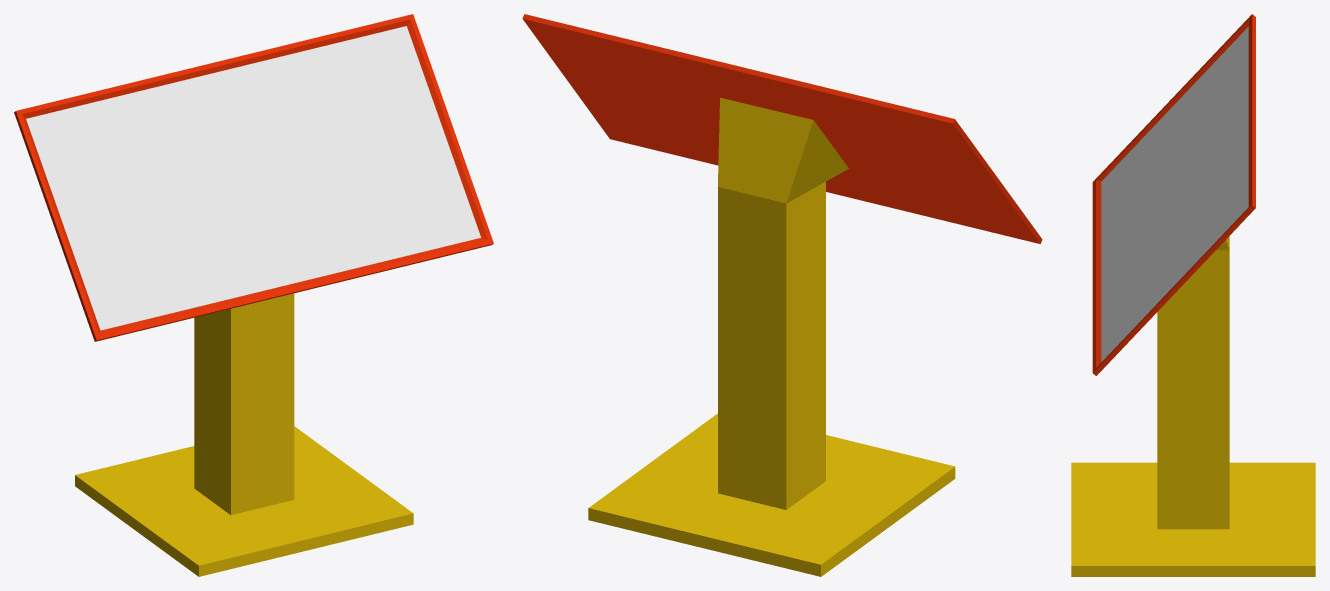
Rendered from Sign(Rectangle).fbx.
3 renders of one model, left to right at view 1: azimuth 30°, elevation 25°; view 2: azimuth 150°, elevation 25°; view 3: azimuth 270°, elevation 25°, orthographic. The views are drawn at different scales.
Visible parts, largest first — view 1: Plate(Rectangle), Base; view 2: Base, Plate(Rectangle); view 3: Base, Plate(Rectangle).
Part boxes in pixels (left/top/right/bottom): Plate(Rectangle): left=14, top=14, right=493, bottom=341; Base: left=75, top=293, right=413, bottom=576; Base: left=588, top=97, right=955, bottom=576; Plate(Rectangle): left=522, top=14, right=1042, bottom=243; Base: left=1071, top=236, right=1315, bottom=576; Plate(Rectangle): left=1092, top=14, right=1255, bottom=375.
Size of the model in its own units: 370 by 375 by 200.
